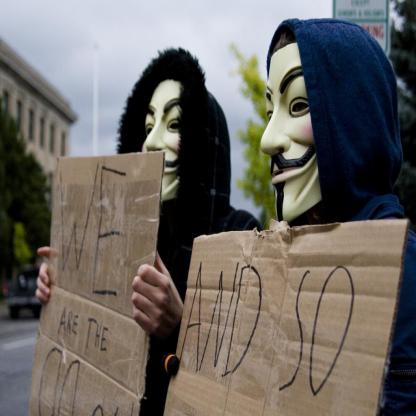face: (263, 44, 335, 217), (141, 78, 198, 203)
